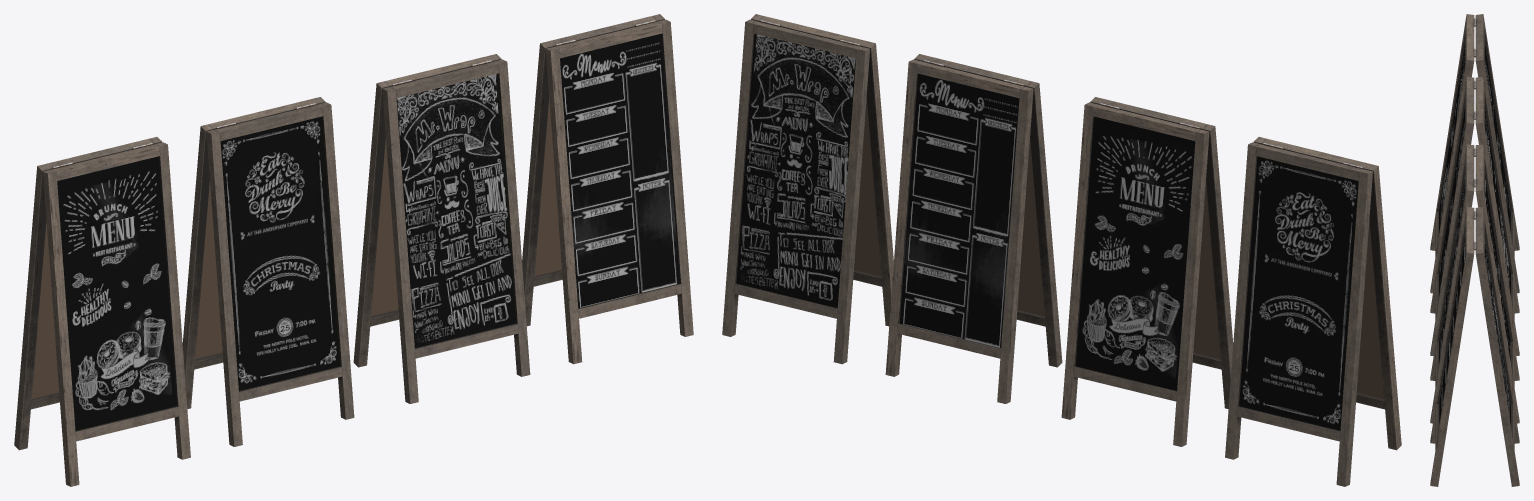
The model's file is chalkboard.glb.
The picture shows the model from 3 angles, left to right: view 1: azimuth 30°, elevation 25°; view 2: azimuth 150°, elevation 25°; view 3: azimuth 270°, elevation 25°; orthographic projection. The views are drawn at different scales.
Parts seen in each view (by area): view 1: defaultMaterial (×2); view 2: defaultMaterial (×2); view 3: defaultMaterial (×2).
Part boxes in pixels (x1=…): defaultMaterial (×2): x1=14, y1=14, x2=693, y2=486; defaultMaterial (×2): x1=722, y1=14, x2=1401, y2=486; defaultMaterial (×2): x1=1430, y1=14, x2=1519, y2=486.
Bounding box in the file's own units: 218 × 99.5 × 34.33.
2 materials, 2 textured.
